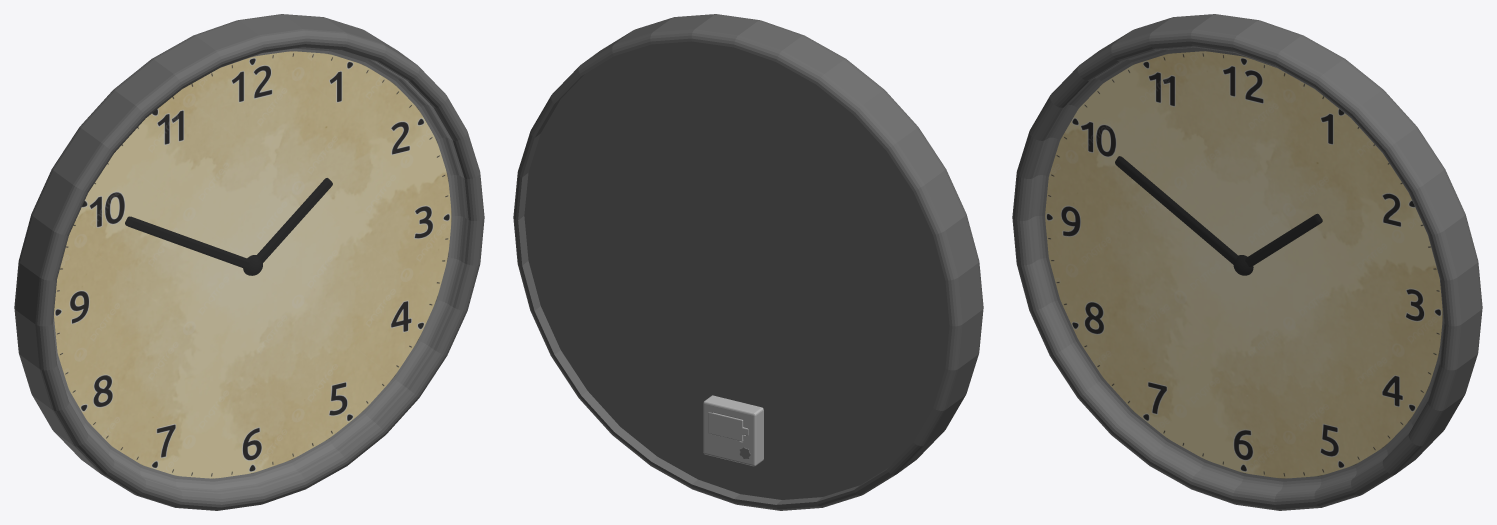
The model's file is Horloge.fbx.
The picture shows the model from 3 angles, left to right: view 1: azimuth 30°, elevation 25°; view 2: azimuth 150°, elevation 25°; view 3: azimuth 330°, elevation 25°; orthographic projection.
Visible parts, largest first — view 1: Cadre, Aiguille Minute, AiguilleHeure; view 2: Cadre, Boitier, Clapet; view 3: Cadre, Aiguille Minute, AiguilleHeure.
Part boxes in pixels (x1,y1,x2,y2): Cadre: (14,14,484,510); Aiguille Minute: (125,216,249,268); AiguilleHeure: (256,178,332,262); Cadre: (513,14,983,510); Boitier: (703,395,763,466); Clapet: (708,412,748,441); Cadre: (1012,14,1482,510); Aiguille Minute: (1115,156,1238,264); AiguilleHeure: (1245,213,1322,266).
Size of the model in its own units: 238 by 238 by 29.19.
